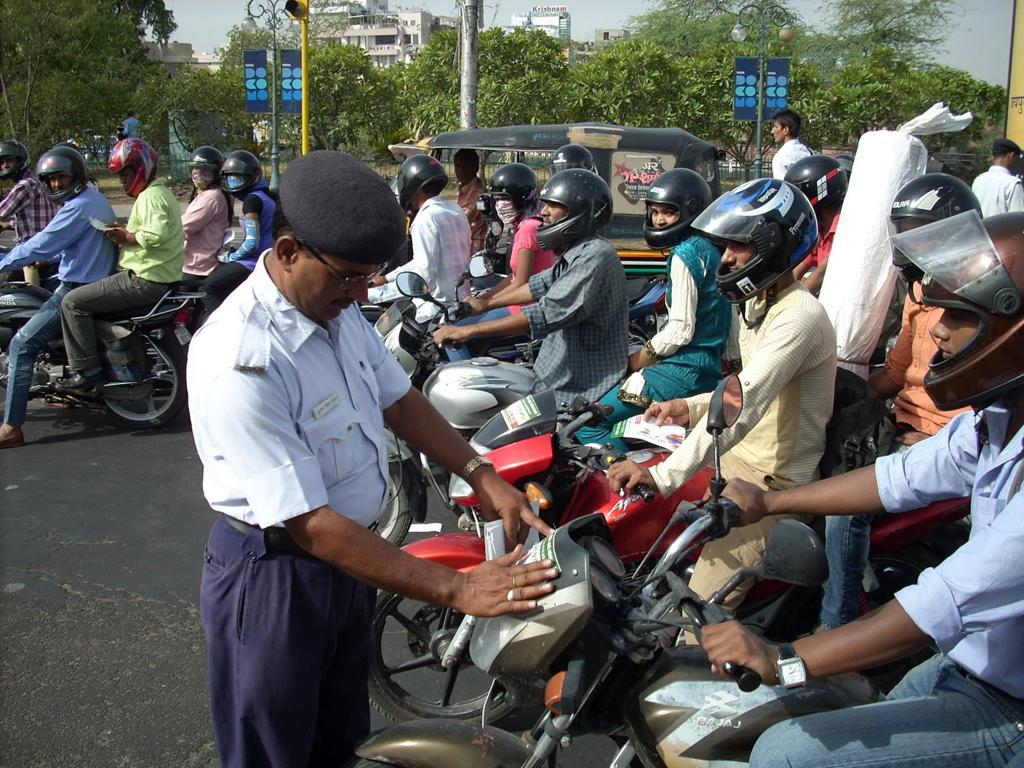face: (295, 238, 383, 324), (931, 298, 995, 378), (895, 213, 941, 266), (725, 232, 765, 287), (538, 194, 572, 237), (649, 201, 682, 235), (117, 165, 144, 195), (49, 172, 79, 199), (400, 178, 425, 209), (556, 163, 582, 188), (191, 164, 215, 188), (495, 194, 516, 220), (227, 169, 249, 191), (1, 155, 20, 176), (455, 162, 472, 181), (771, 122, 784, 142)
